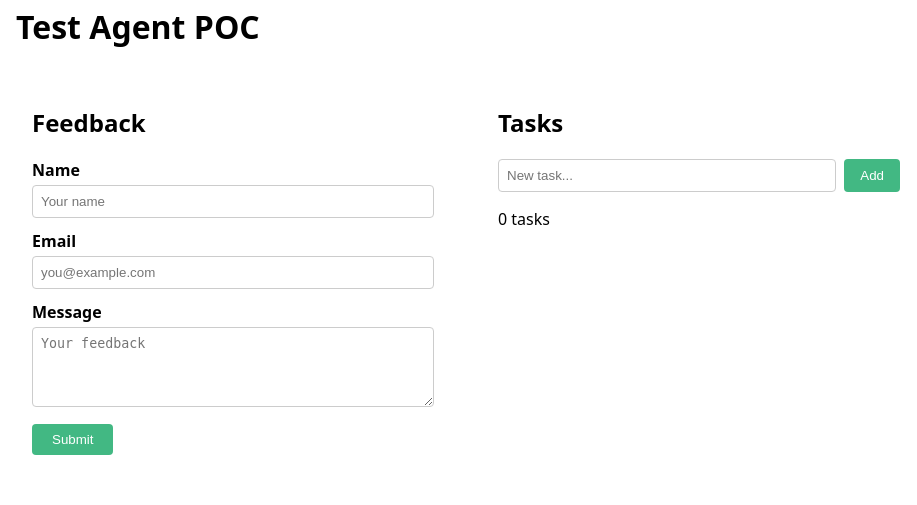
Scenario: Feedback Form › submits the form successfully with valid input
Type "Alice" into the field with class "name-input". click: (233, 202)
box: [32,185,434,218]
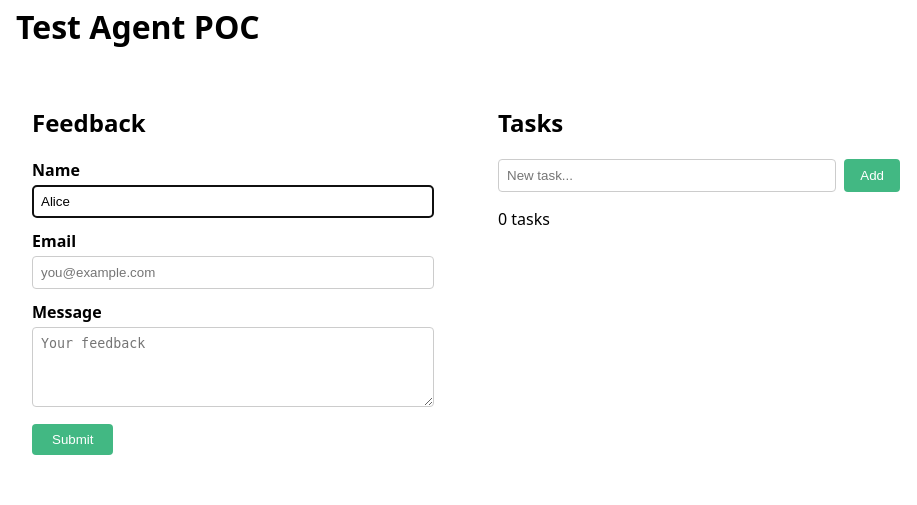
Type "alice@example.com" into the field with class "email-input". click: (233, 273)
box: [32,256,434,289]
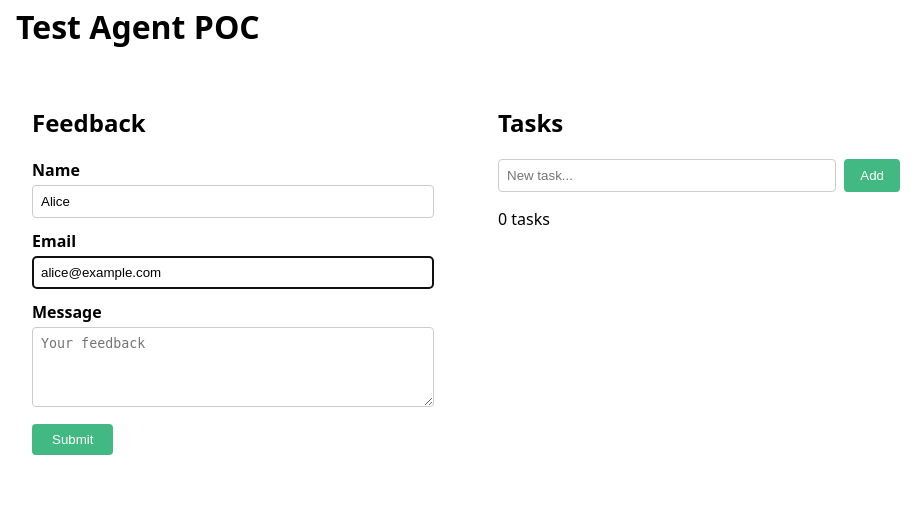
Type "Great product!" into the text box with class "message-input". click: (233, 367)
box: [32,327,434,407]
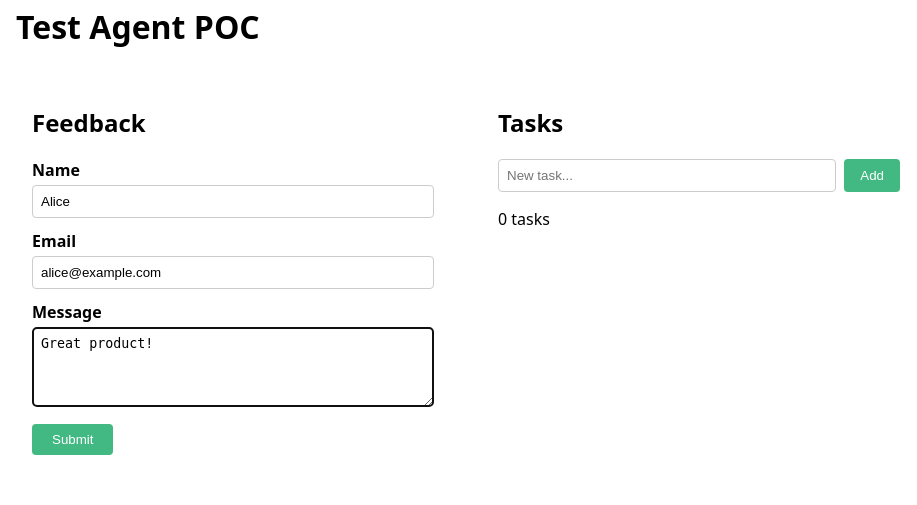
Click the button with class "submit-btn". click: (73, 440)
box: [32,424,114,455]
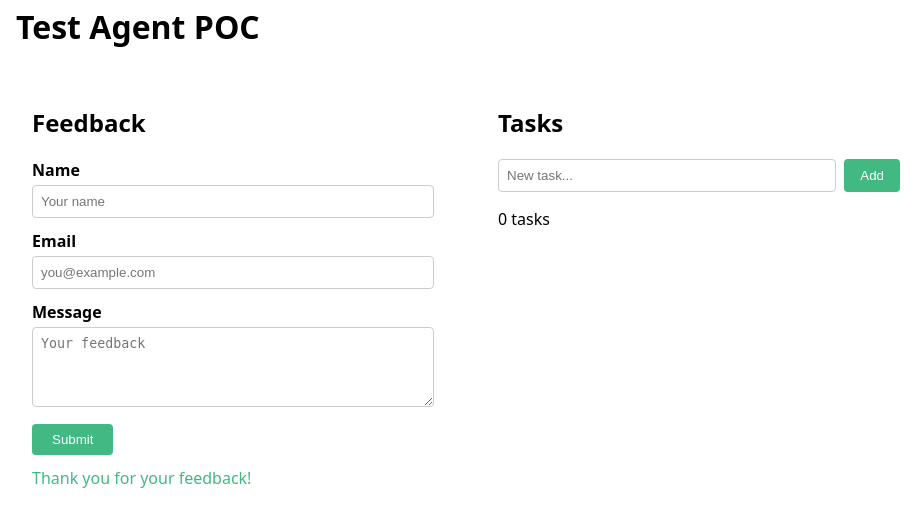
Now the text "Thank you for your feedback!" is shown, box [32,467,251,489]
